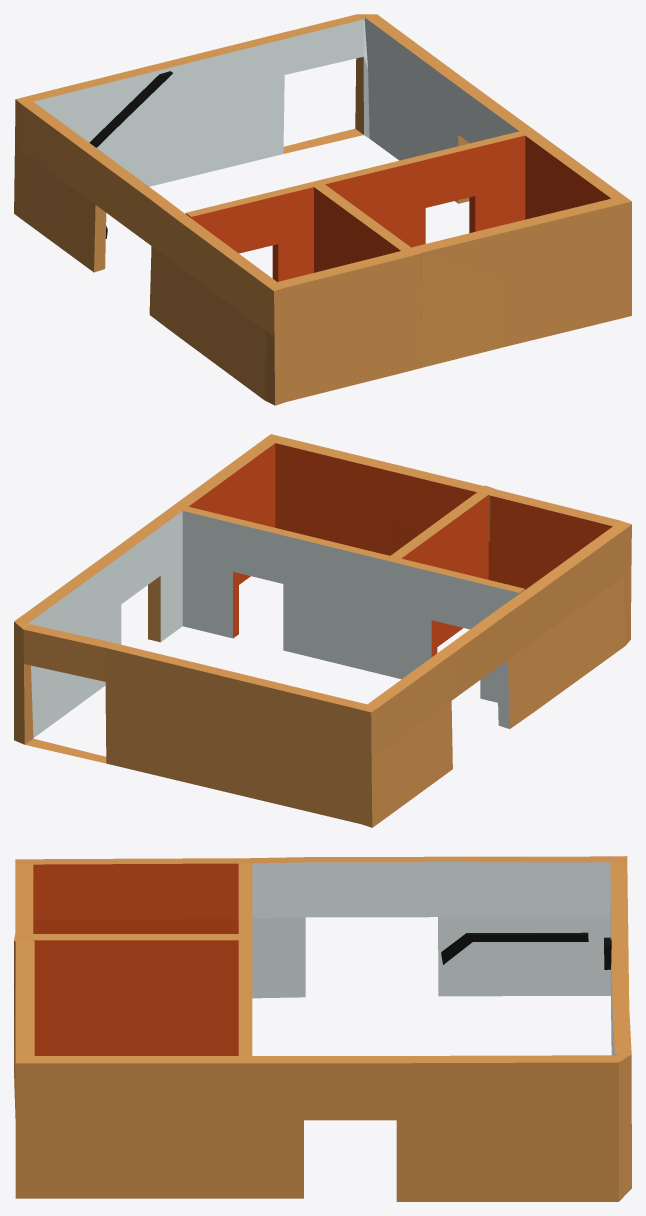
File: muur.fbx
3 renders of one model, top to bottom at view 1: azimuth 30°, elevation 25°; view 2: azimuth 150°, elevation 25°; view 3: azimuth 270°, elevation 25°, orthographic. The views are drawn at different scales.
Parts seen in each view (by area): view 1: muur; view 2: muur; view 3: muur.
Boxes of the visible parts, <box> form: muur: <box>14,14,631,405</box>; muur: <box>14,434,631,827</box>; muur: <box>14,856,631,1201</box>.
Size of the model in its own units: 79792 by 25031 by 100345.
